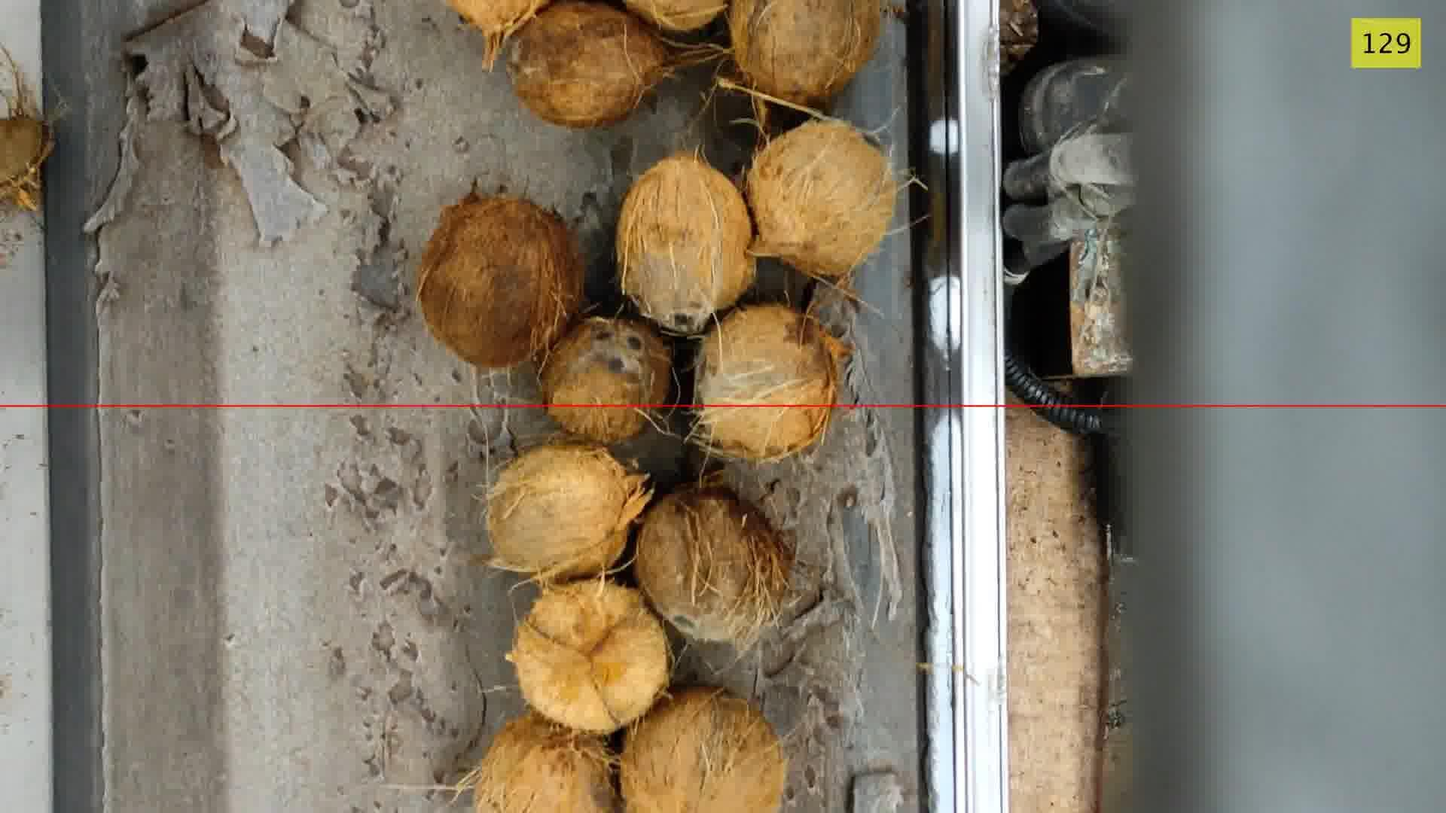Coconut: (416, 190, 584, 370), (633, 485, 792, 647), (615, 153, 755, 334), (507, 580, 670, 734), (690, 304, 846, 461), (744, 120, 898, 279), (487, 442, 650, 583), (620, 687, 787, 812), (508, 0, 670, 128), (541, 317, 672, 443), (728, 0, 883, 105), (459, 712, 620, 812), (0, 47, 53, 211), (446, 0, 550, 69), (0, 116, 53, 210), (624, 0, 728, 32)
